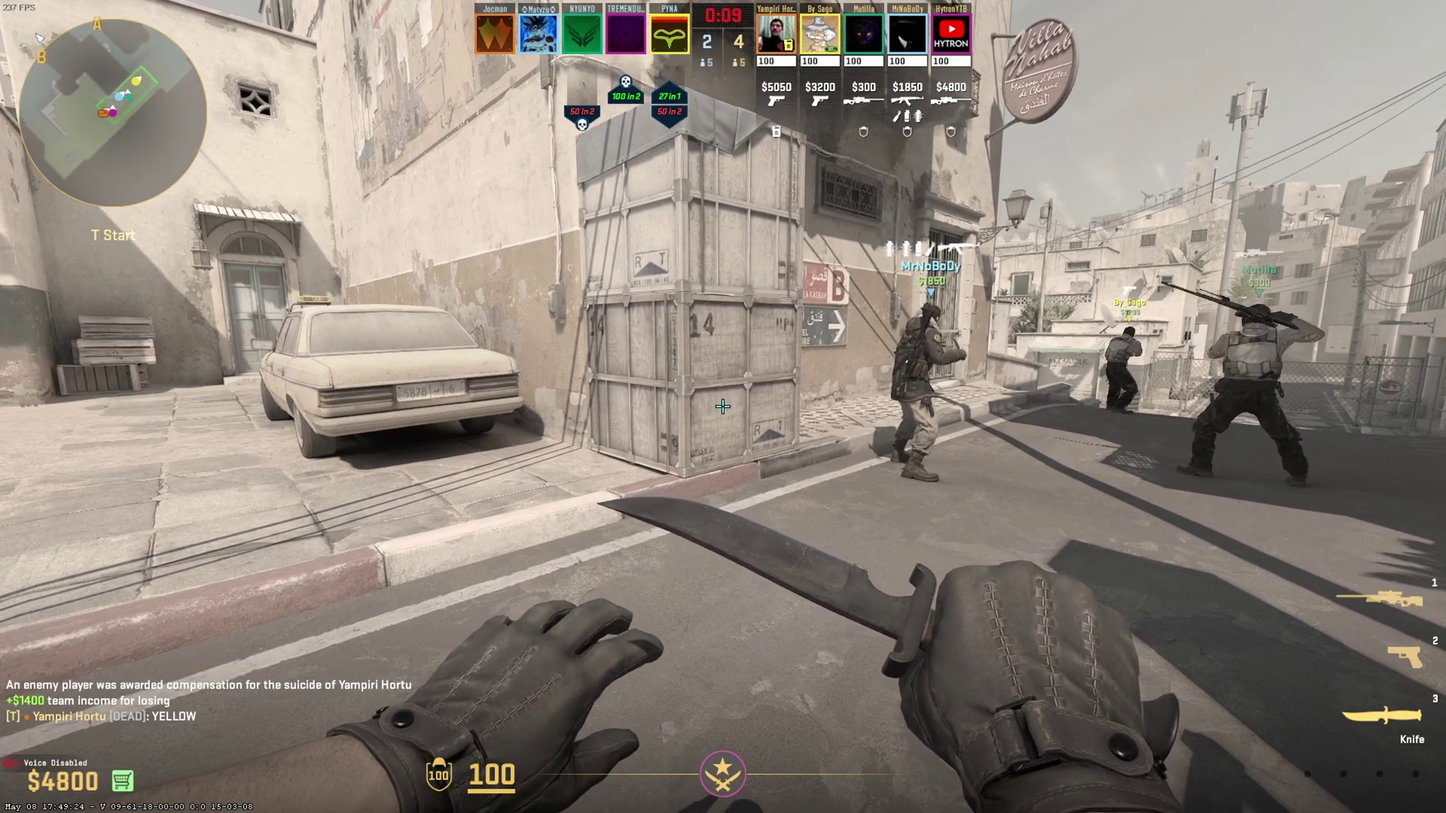Terrorist: (1188, 304, 1317, 486), (891, 305, 947, 481), (1107, 327, 1141, 414)
